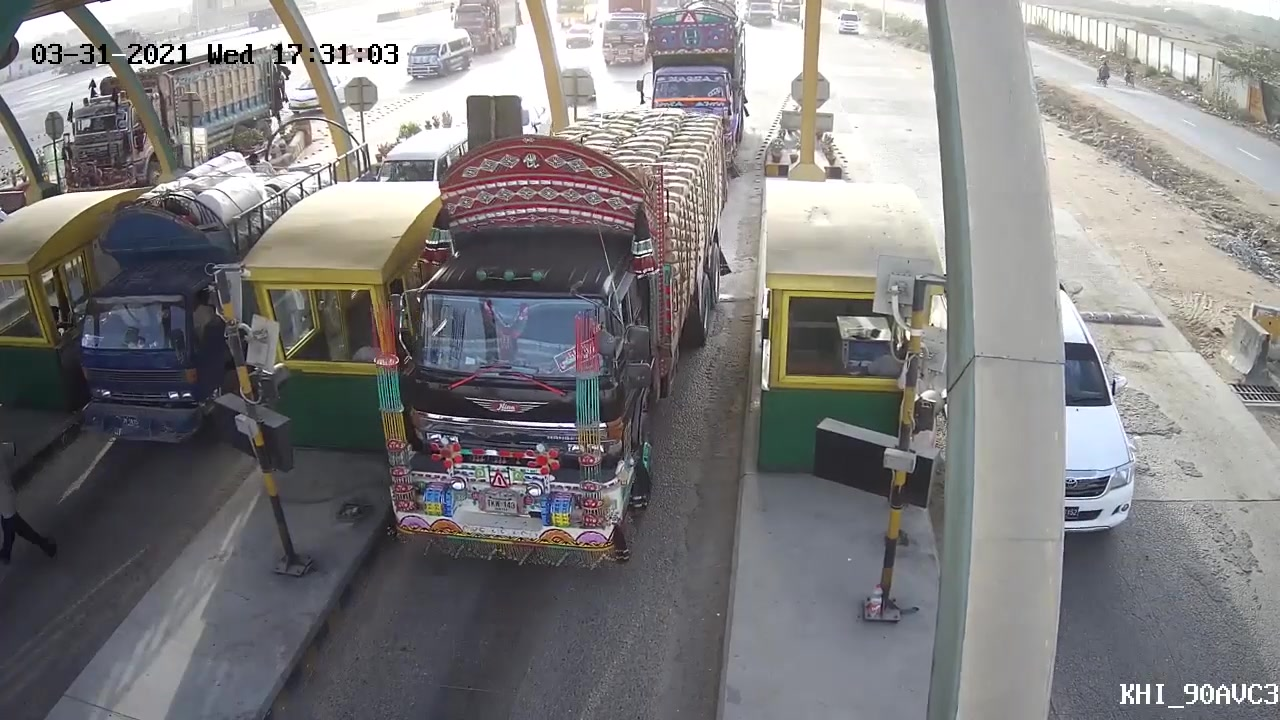F5: (378, 99, 727, 574)
